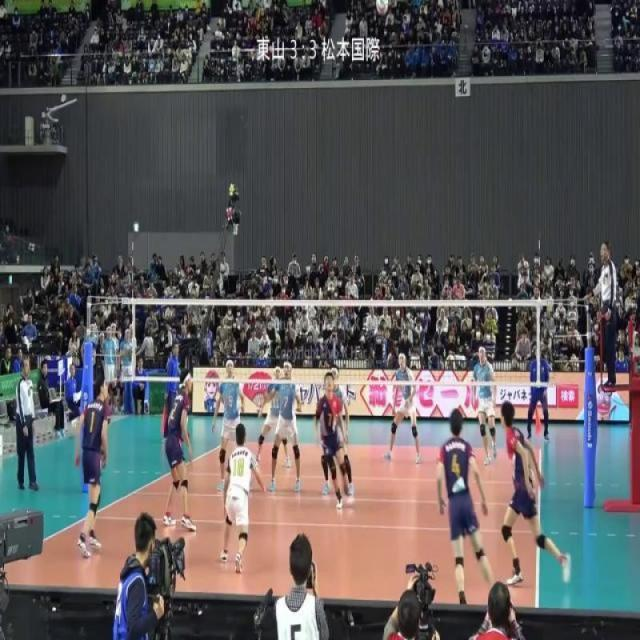volleyball: (376, 0, 388, 16)
